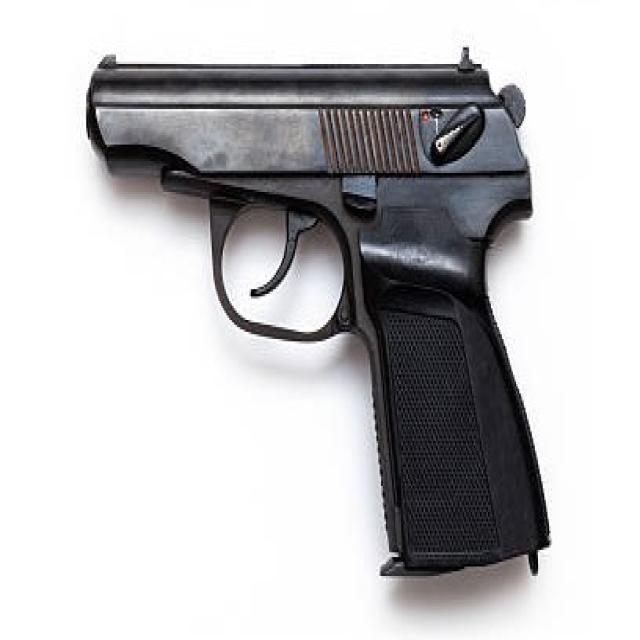pistol: (84, 39, 563, 586)
